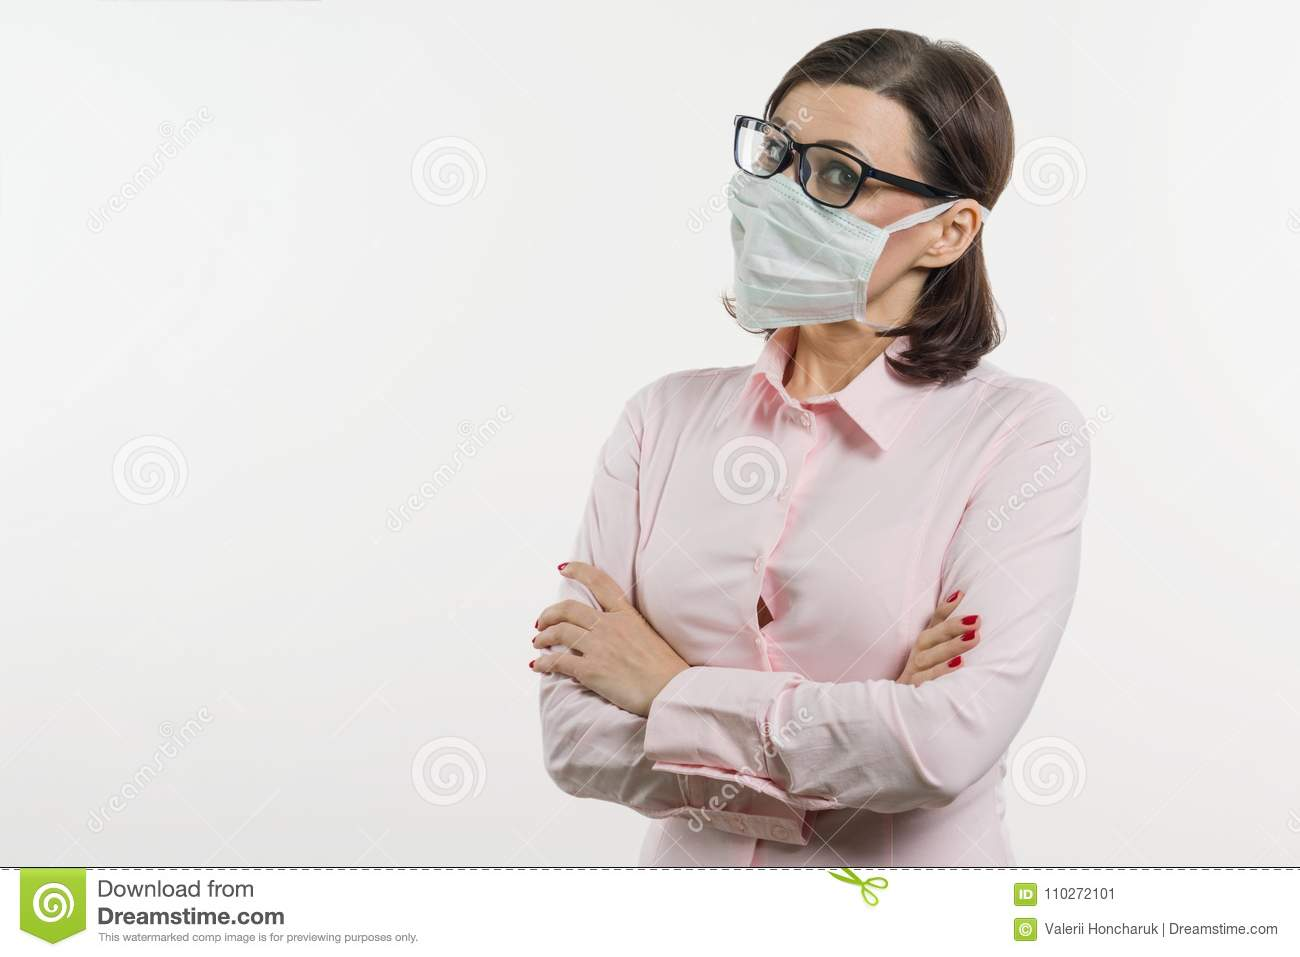mask: (725, 164, 884, 331)
